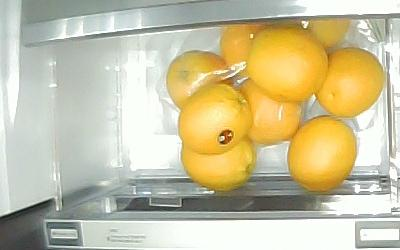orange: (248, 24, 328, 101), (178, 84, 254, 154), (287, 116, 357, 192), (315, 47, 385, 118), (181, 135, 256, 192)
orange_vinyl: (166, 50, 236, 110), (238, 78, 301, 144), (219, 23, 267, 67), (309, 17, 352, 48)
